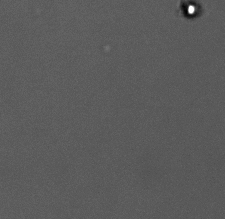Living Cell: (182, 2, 201, 19)
